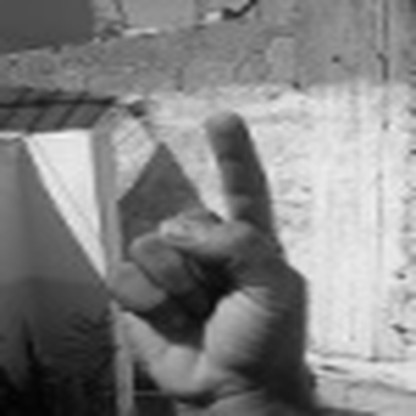d: (110, 95, 305, 416)
